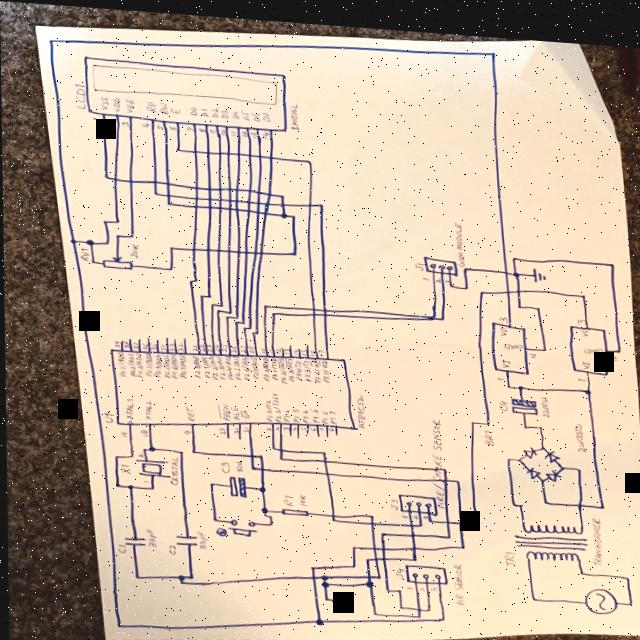capacitor: (509, 389, 537, 407), (226, 471, 247, 494), (172, 530, 199, 544), (120, 534, 146, 545)
crossover: (502, 280, 512, 288), (203, 242, 211, 250), (214, 242, 222, 250), (191, 181, 200, 188), (150, 176, 159, 183), (111, 173, 119, 180), (320, 452, 328, 459), (408, 538, 416, 545), (224, 243, 232, 250), (205, 200, 213, 207), (192, 200, 200, 207), (215, 182, 223, 189), (216, 192, 224, 199), (244, 203, 252, 210), (254, 195, 262, 202), (254, 184, 262, 191), (265, 186, 273, 193), (267, 149, 275, 156), (256, 148, 264, 155), (235, 147, 243, 154), (192, 145, 200, 152), (164, 189, 172, 196), (363, 567, 371, 574), (407, 525, 415, 532), (405, 515, 413, 522), (442, 511, 450, 518), (308, 569, 316, 576), (440, 469, 448, 476), (455, 512, 463, 519), (574, 492, 582, 499), (204, 182, 213, 188), (163, 178, 172, 184), (126, 176, 135, 182), (263, 196, 270, 203), (257, 461, 264, 468), (247, 448, 254, 455), (189, 243, 197, 249), (205, 192, 213, 198), (192, 192, 200, 198), (215, 201, 223, 207), (245, 183, 253, 189), (244, 195, 252, 201), (246, 148, 254, 154), (224, 146, 232, 152), (215, 146, 223, 152), (204, 146, 212, 152), (370, 550, 378, 556), (369, 540, 377, 546), (366, 514, 374, 520), (377, 540, 385, 546), (378, 550, 386, 556), (321, 465, 329, 471), (234, 244, 240, 251), (279, 197, 286, 203), (233, 182, 240, 188), (226, 182, 233, 188), (306, 197, 313, 203), (501, 261, 508, 267), (412, 600, 420, 605), (242, 245, 248, 251), (254, 205, 260, 211), (233, 202, 239, 208), (233, 194, 239, 200), (226, 193, 232, 199), (226, 202, 232, 208), (515, 279, 521, 285), (277, 442, 283, 448), (258, 246, 264, 251), (252, 246, 258, 251), (262, 206, 268, 211), (321, 302, 327, 307), (321, 307, 328, 311), (310, 302, 316, 306), (310, 307, 316, 311), (329, 508, 335, 512)
diode: (542, 440, 560, 455), (524, 458, 540, 471), (544, 460, 560, 473), (521, 438, 536, 450)
ground: (338, 587, 352, 603), (532, 259, 546, 274)
junction: (312, 613, 324, 621), (84, 236, 94, 245), (623, 590, 634, 598), (362, 574, 373, 582), (318, 575, 329, 583), (582, 378, 592, 386), (256, 481, 266, 489), (596, 493, 606, 501), (318, 568, 328, 576), (573, 457, 582, 465), (68, 236, 77, 243), (457, 536, 466, 543), (482, 412, 491, 419), (511, 263, 520, 270), (578, 283, 586, 290), (477, 281, 485, 288), (206, 477, 214, 484), (607, 252, 615, 259), (131, 571, 139, 578), (189, 445, 197, 452), (47, 36, 55, 43), (176, 445, 184, 452), (472, 512, 480, 519), (125, 481, 133, 488), (164, 197, 172, 204), (113, 230, 121, 237), (112, 451, 120, 458), (321, 590, 329, 597), (443, 526, 451, 533), (88, 256, 96, 263), (515, 295, 524, 301), (165, 263, 174, 269), (100, 217, 109, 223), (468, 411, 475, 418), (533, 297, 541, 303), (209, 513, 217, 519), (102, 238, 110, 244), (167, 242, 175, 248), (503, 448, 511, 454), (127, 231, 135, 237), (436, 609, 444, 615), (540, 491, 548, 497), (622, 565, 630, 571), (369, 605, 377, 611), (147, 443, 155, 449), (174, 144, 182, 150), (317, 197, 325, 203), (509, 493, 517, 499), (513, 494, 521, 500), (276, 451, 284, 457), (259, 502, 267, 508), (176, 571, 184, 577), (113, 216, 121, 222), (577, 561, 584, 567), (396, 598, 403, 604), (148, 482, 155, 488), (490, 43, 497, 49), (280, 208, 287, 214), (394, 581, 401, 587), (384, 581, 391, 587), (441, 459, 447, 466), (152, 188, 159, 194), (528, 588, 536, 593), (520, 416, 528, 421), (541, 338, 547, 344), (517, 376, 523, 382), (378, 525, 384, 531), (558, 456, 564, 462), (454, 471, 460, 477), (462, 258, 468, 264), (186, 571, 192, 577), (113, 480, 119, 486), (128, 450, 134, 456), (319, 445, 326, 450), (114, 621, 121, 626), (615, 339, 622, 344), (102, 172, 109, 177), (306, 154, 312, 159), (536, 416, 542, 421), (462, 278, 468, 283), (257, 450, 263, 455), (198, 290, 204, 295), (291, 246, 297, 251), (414, 607, 420, 612), (438, 309, 444, 314), (262, 299, 268, 304), (328, 512, 334, 517), (233, 311, 239, 316), (511, 247, 517, 252), (429, 307, 435, 312), (374, 568, 380, 573), (538, 436, 544, 441), (538, 469, 544, 474), (515, 449, 521, 454), (505, 376, 511, 381), (270, 307, 276, 312), (177, 577, 183, 582), (269, 442, 276, 446), (209, 298, 214, 303), (217, 299, 222, 304), (226, 305, 231, 310), (141, 444, 146, 449), (350, 540, 356, 544), (349, 558, 355, 562), (266, 518, 272, 522), (447, 276, 453, 280), (205, 291, 211, 295), (215, 305, 221, 309), (279, 189, 285, 193), (290, 210, 296, 214), (308, 561, 314, 565), (363, 551, 369, 555), (367, 508, 373, 512), (410, 551, 416, 555), (426, 512, 432, 516), (416, 517, 422, 521), (424, 601, 430, 605), (249, 462, 255, 466), (224, 311, 229, 315), (233, 316, 238, 320), (240, 316, 244, 321), (242, 322, 246, 326), (261, 509, 265, 513), (188, 277, 193, 280), (193, 276, 198, 279), (247, 322, 251, 325), (250, 327, 254, 330), (254, 327, 258, 330), (267, 511, 271, 514)
resistor: (102, 252, 132, 268), (279, 502, 308, 512)
source: (582, 577, 617, 607)
switch: (224, 514, 258, 534)
terminal: (402, 557, 447, 579), (396, 487, 436, 509), (422, 249, 458, 269)
text: (429, 411, 445, 502), (589, 506, 603, 558), (450, 556, 465, 599), (453, 214, 465, 259), (72, 81, 87, 107), (572, 414, 585, 444), (354, 389, 366, 421), (308, 353, 321, 378), (167, 454, 178, 483), (270, 387, 280, 417), (199, 352, 212, 375), (168, 350, 179, 376), (317, 354, 329, 377), (194, 526, 207, 547), (289, 98, 299, 125), (239, 352, 250, 376), (207, 352, 218, 376), (276, 353, 286, 379), (116, 349, 126, 375), (125, 351, 136, 374), (144, 525, 156, 546), (216, 399, 230, 417), (261, 352, 271, 377), (231, 351, 241, 376), (223, 351, 233, 376), (283, 353, 293, 377), (215, 352, 225, 376), (143, 350, 153, 374), (152, 351, 162, 375), (160, 351, 170, 375), (501, 541, 514, 559), (539, 387, 549, 409), (249, 352, 259, 374), (191, 352, 201, 374), (481, 421, 493, 439), (177, 351, 186, 375), (142, 396, 152, 417), (124, 396, 134, 417), (301, 355, 311, 376), (134, 350, 142, 376), (263, 395, 272, 417), (184, 402, 195, 419), (582, 337, 602, 346), (293, 355, 302, 375), (308, 402, 319, 418), (269, 353, 277, 375), (125, 95, 135, 112), (128, 240, 139, 255), (119, 460, 131, 473), (281, 489, 293, 502), (99, 94, 109, 109), (111, 95, 121, 110), (79, 244, 89, 259), (504, 334, 520, 343), (219, 457, 230, 470), (229, 402, 239, 416), (146, 98, 157, 110), (240, 104, 250, 117), (159, 99, 169, 112), (394, 560, 404, 573), (327, 405, 336, 419), (319, 405, 328, 419), (299, 404, 308, 418), (498, 318, 509, 329), (296, 489, 306, 501), (388, 492, 398, 504), (497, 391, 507, 403), (102, 411, 114, 421), (291, 403, 299, 418), (234, 456, 243, 469), (281, 404, 289, 418), (579, 350, 590, 360), (261, 107, 271, 118), (414, 254, 425, 264), (166, 540, 175, 552), (500, 350, 510, 360), (578, 318, 588, 328), (251, 108, 261, 118), (116, 541, 126, 551), (200, 104, 209, 114), (220, 105, 229, 115), (497, 308, 507, 316), (576, 308, 586, 316), (239, 406, 249, 414), (148, 338, 156, 348), (212, 103, 219, 114), (231, 106, 239, 115), (189, 103, 197, 112), (139, 426, 148, 434), (158, 340, 166, 349), (246, 341, 254, 350), (170, 104, 180, 111), (176, 339, 183, 349), (181, 426, 192, 432), (217, 423, 225, 431), (249, 126, 256, 135), (260, 127, 269, 134), (428, 579, 437, 586), (113, 337, 120, 346), (131, 338, 138, 347), (212, 340, 219, 349), (238, 341, 245, 350), (298, 342, 305, 351), (141, 119, 151, 125), (576, 367, 586, 373), (607, 346, 617, 352), (121, 118, 129, 125), (119, 429, 127, 436), (232, 422, 239, 430), (122, 338, 129, 346), (140, 340, 148, 347), (168, 341, 175, 349), (205, 341, 212, 349), (220, 340, 227, 348), (229, 341, 236, 349), (420, 269, 430, 274), (109, 116, 116, 123), (241, 422, 248, 429), (308, 344, 315, 351), (168, 122, 176, 128), (219, 124, 225, 132), (229, 126, 237, 132), (241, 125, 247, 133), (191, 341, 197, 349), (198, 341, 204, 349), (274, 342, 280, 350), (316, 344, 324, 350), (527, 344, 536, 349), (156, 121, 163, 127), (417, 579, 424, 585), (421, 508, 428, 514), (282, 343, 288, 350), (291, 344, 298, 350), (495, 368, 503, 373), (404, 579, 412, 584), (400, 507, 408, 512), (434, 270, 440, 276), (259, 343, 265, 349), (186, 123, 193, 128), (209, 125, 216, 130), (299, 421, 306, 426), (92, 115, 100, 119), (141, 477, 149, 481), (411, 508, 417, 513), (443, 272, 449, 277), (136, 450, 142, 455), (266, 344, 272, 349), (198, 124, 205, 128), (263, 422, 270, 426), (290, 422, 297, 426), (326, 422, 333, 426), (282, 422, 288, 426), (309, 422, 315, 426), (318, 422, 324, 426), (274, 422, 278, 426)
transformer: (510, 510, 589, 556)
